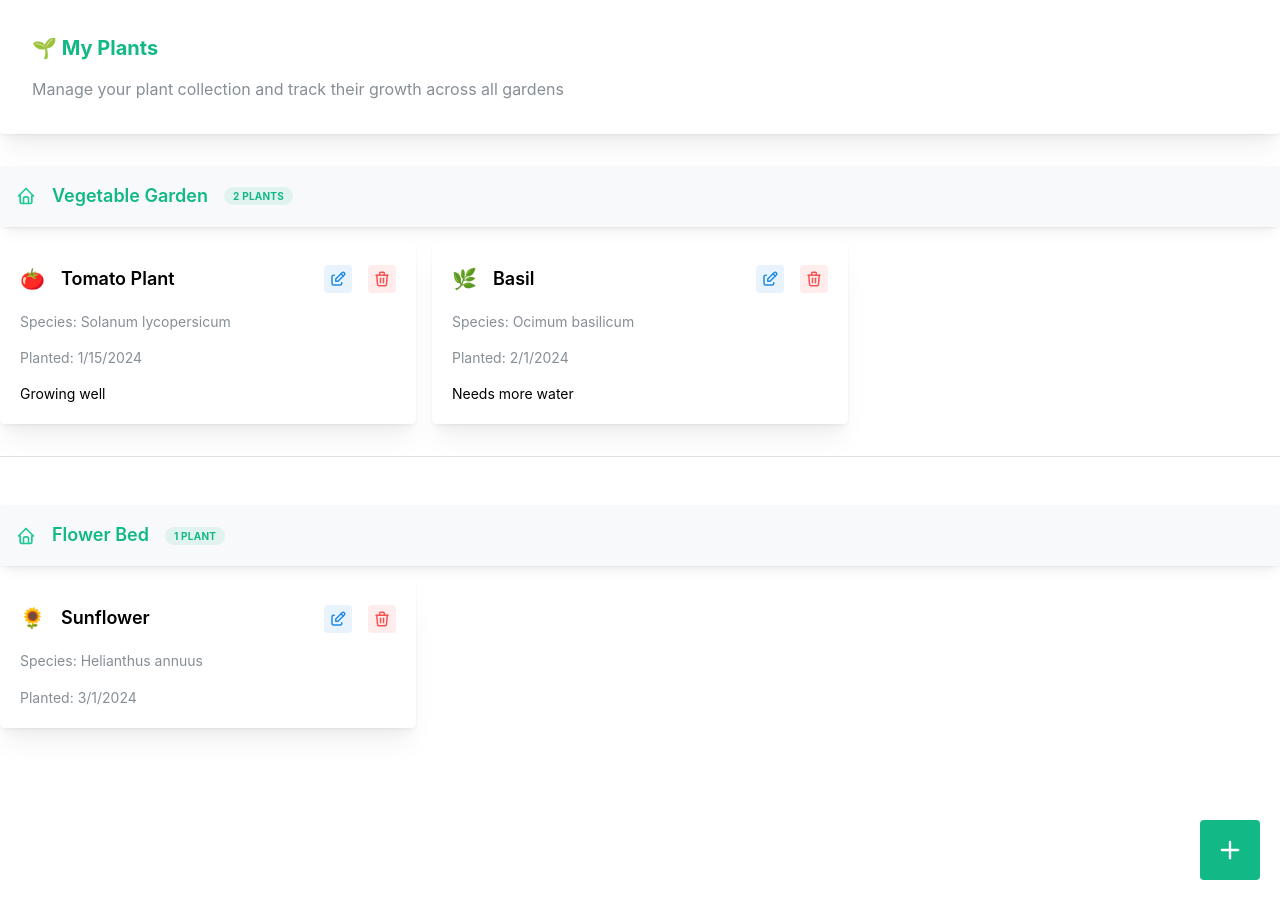
Scenario: PlantList Component › Delete Plant › opens delete confirmation modal
The image size is (1280, 900).
Expected: the text "Tomato Plant" is shown, [61,265,175,294]
Click the 2nd button.
click(382, 279)  # box [368,265,396,293]
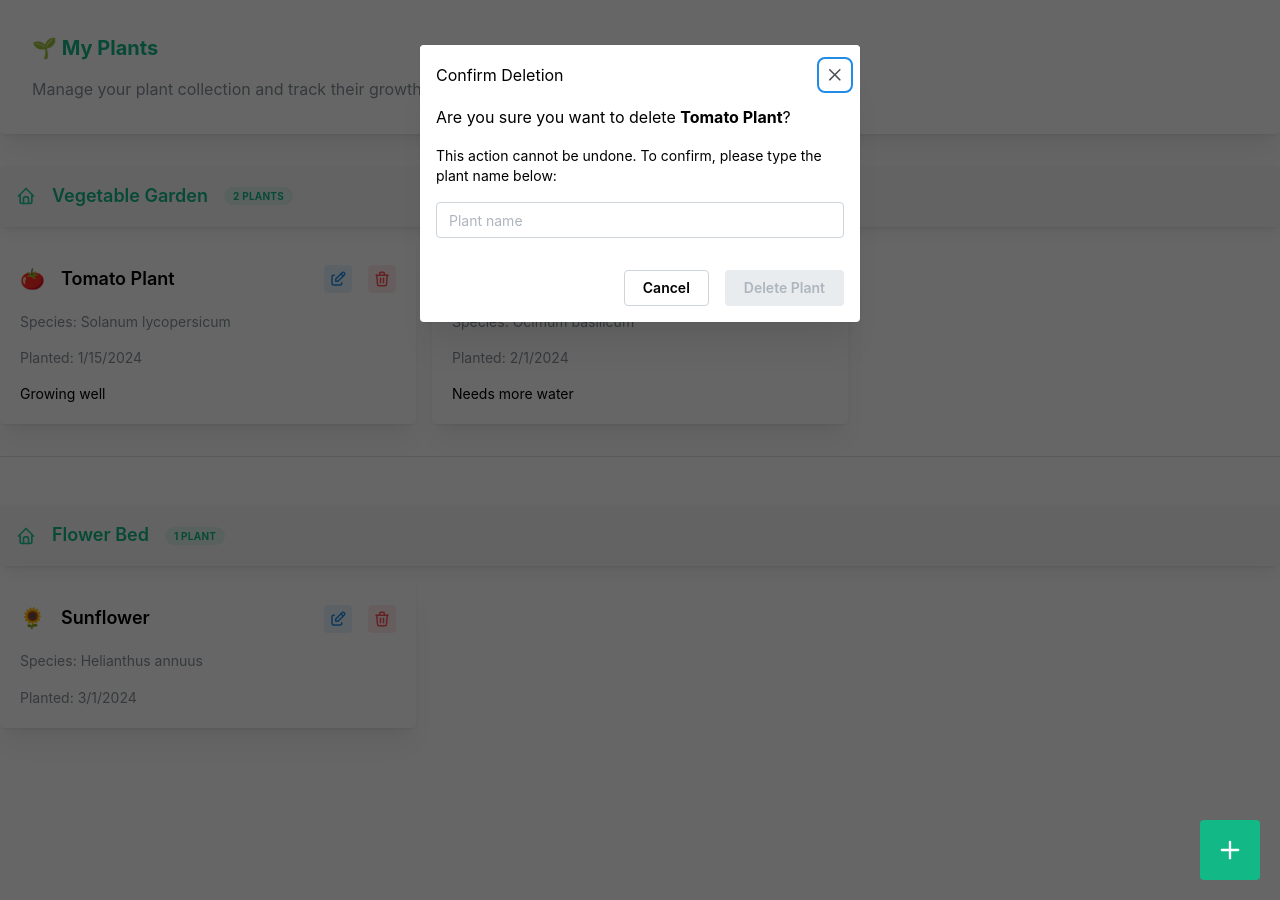
Now the heading "Confirm Deletion" is shown, box [436,67,564,83]
Now the text "Are you sure you want to delete Tomato Plant?" is shown, box [436,105,844,130]
Now the text "Tomato Plant" is shown, box [680,107,783,127]
